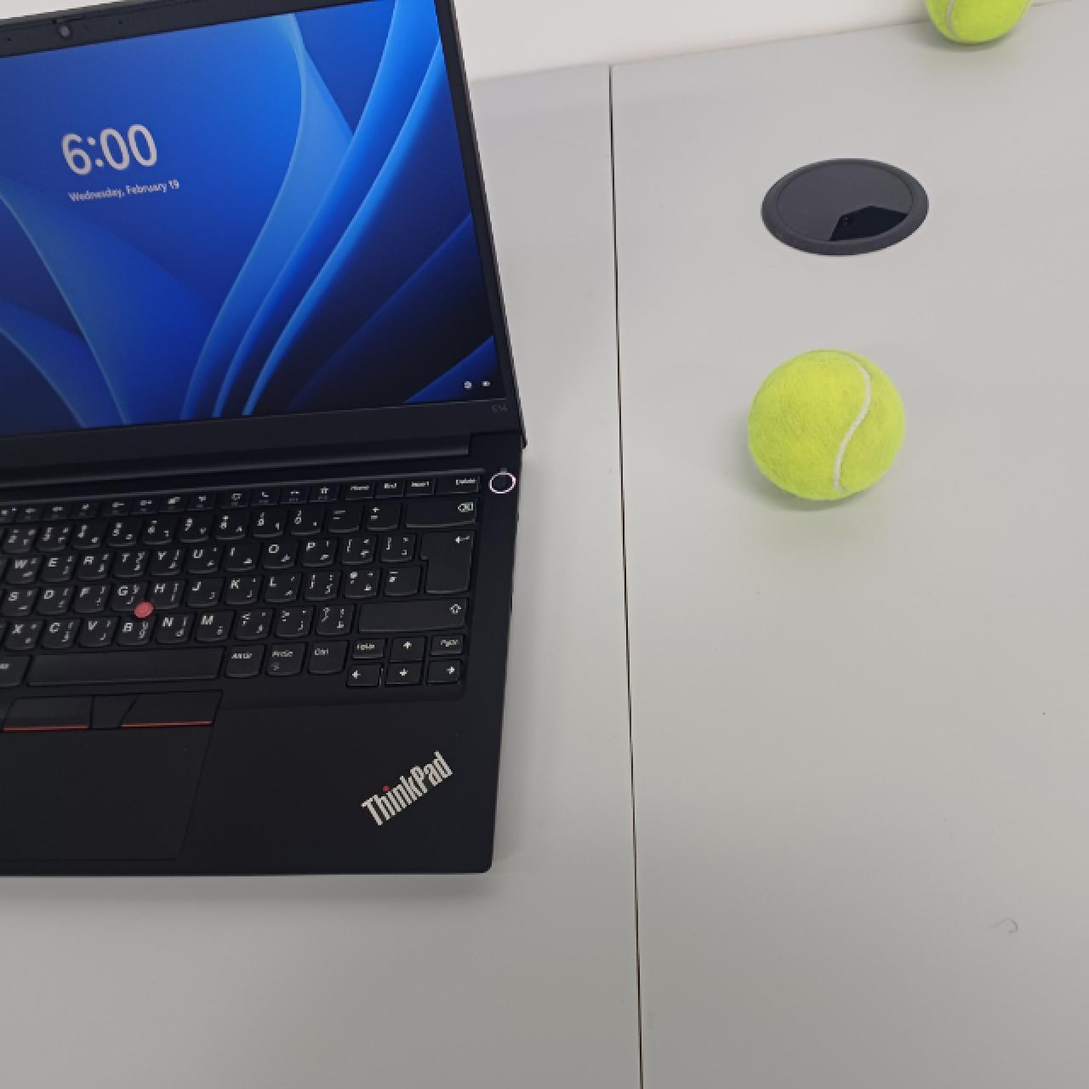tennis-ball: (747, 350, 902, 503), (917, 0, 1041, 49)
